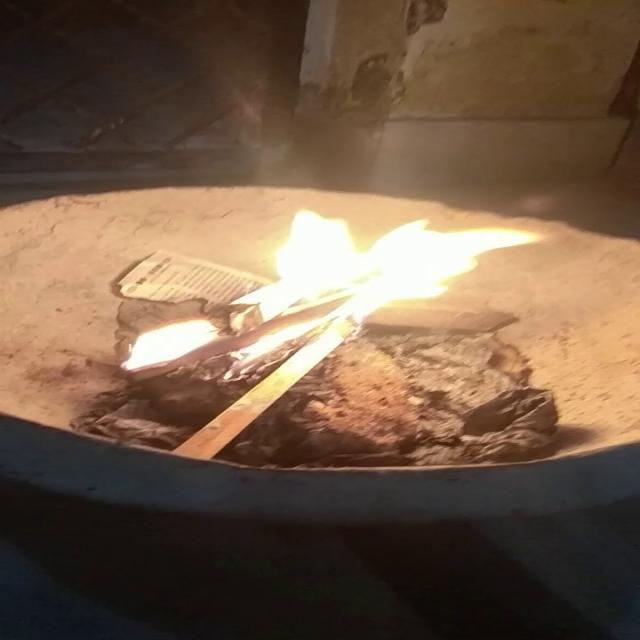fire: (157, 204, 510, 381)
